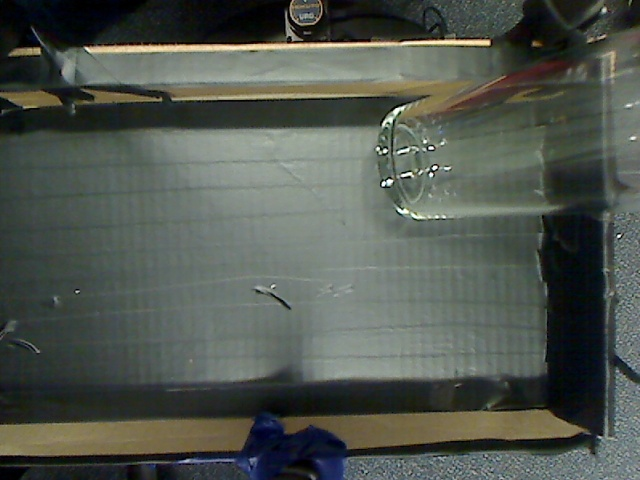cup: (352, 66, 640, 222)
